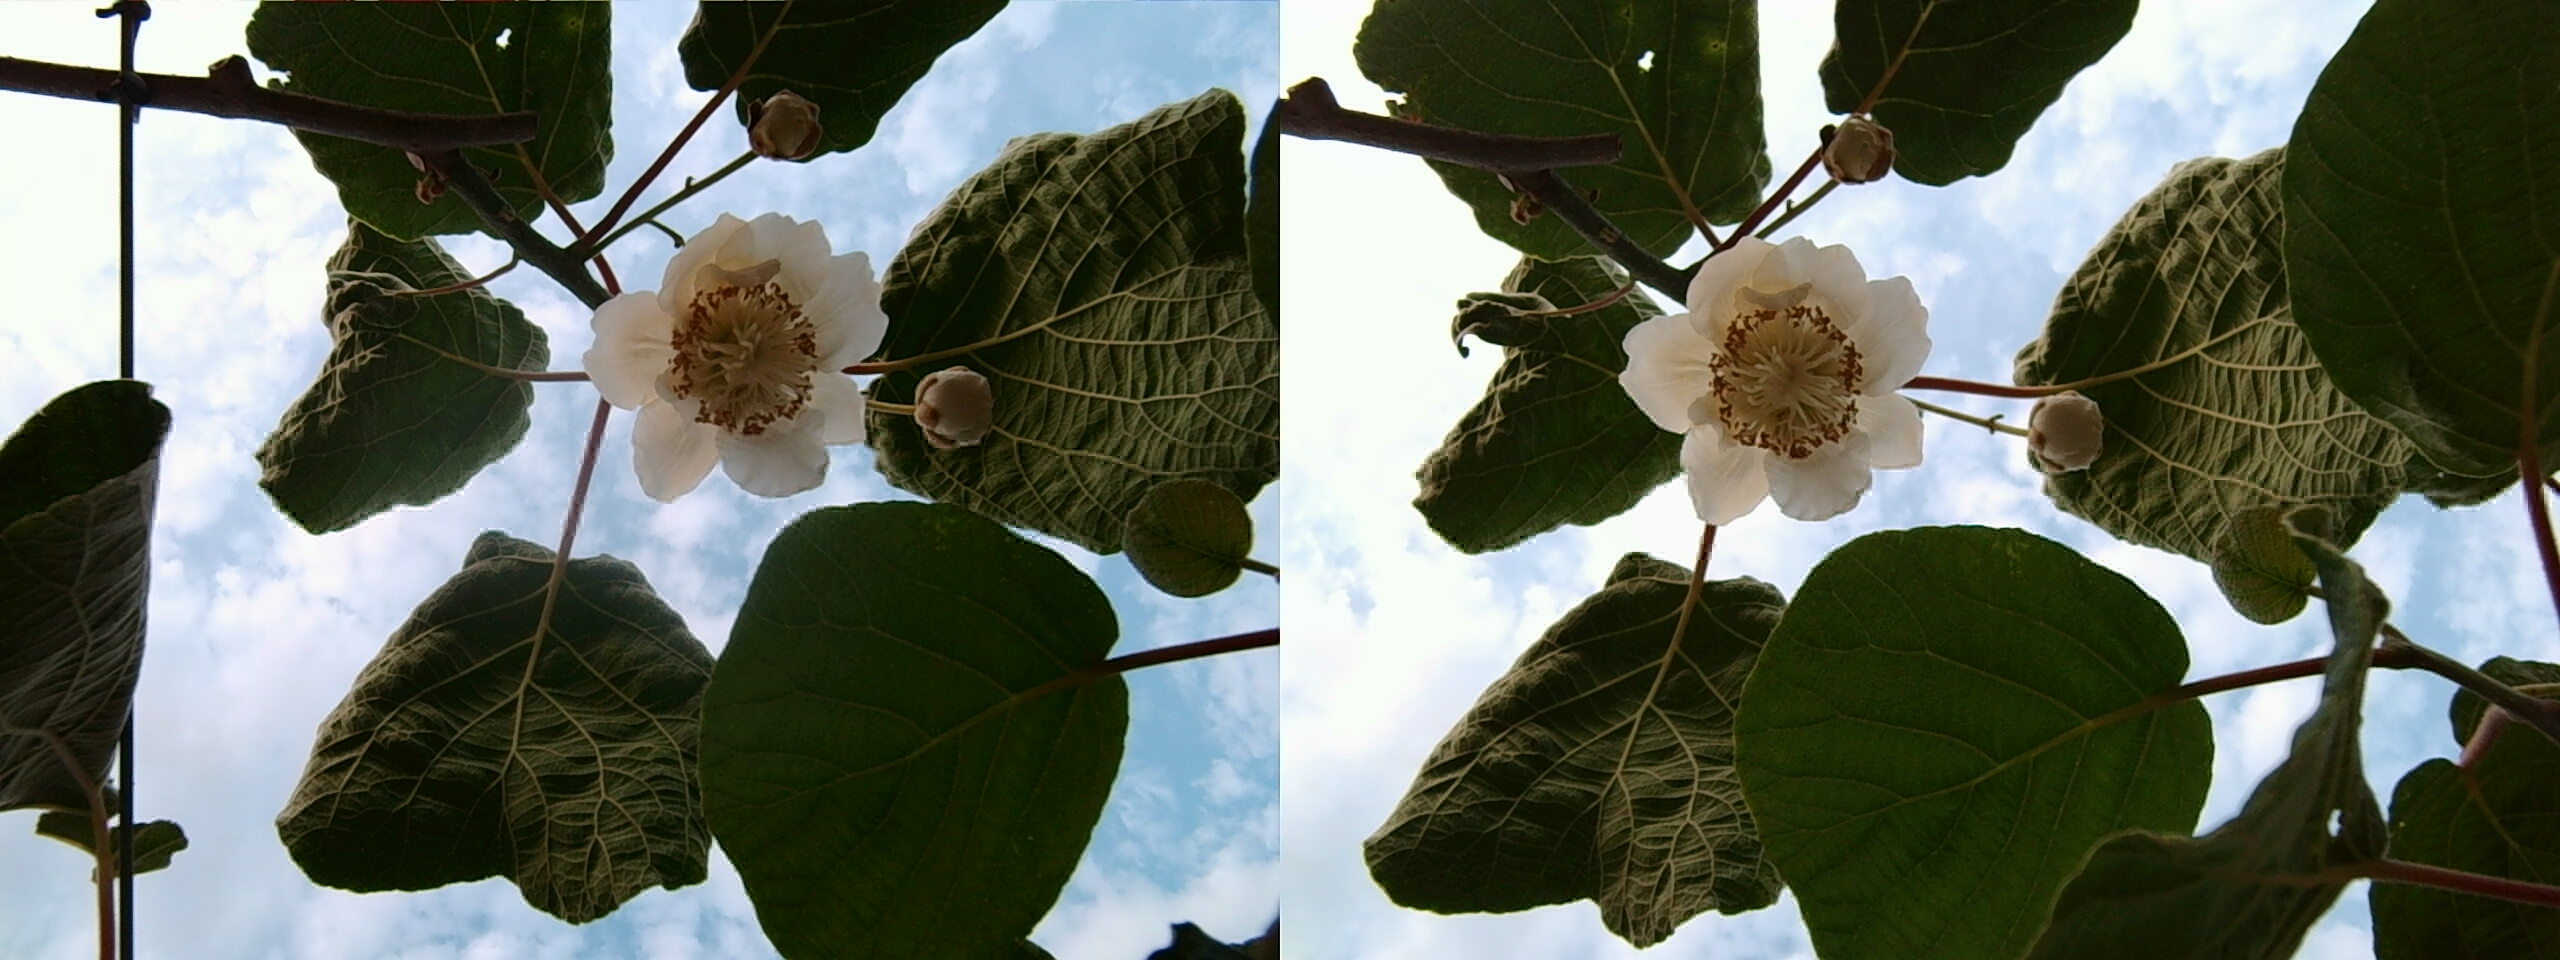flower: (1628, 225, 1930, 527), (588, 202, 873, 496)
